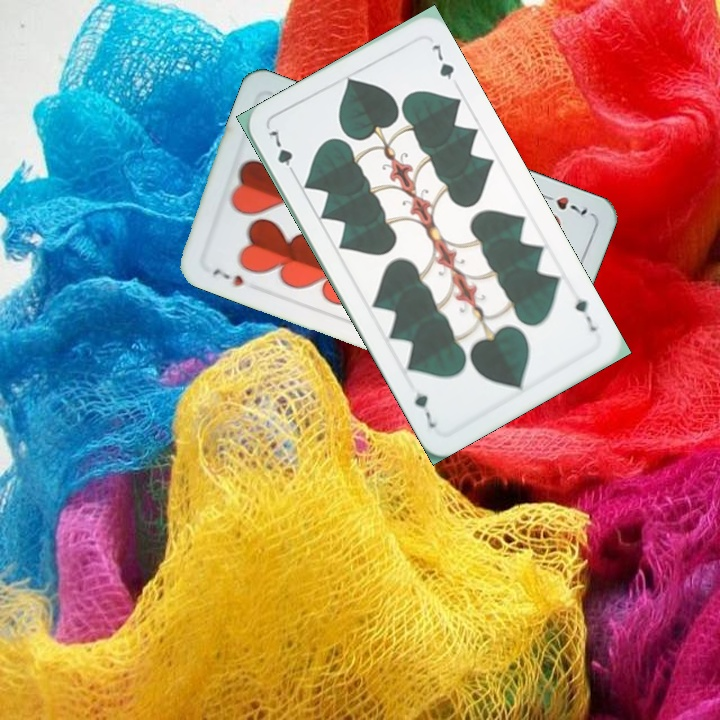G7: (264, 124, 300, 180), (570, 294, 600, 334)
H7: (536, 189, 590, 218), (208, 264, 247, 289)
